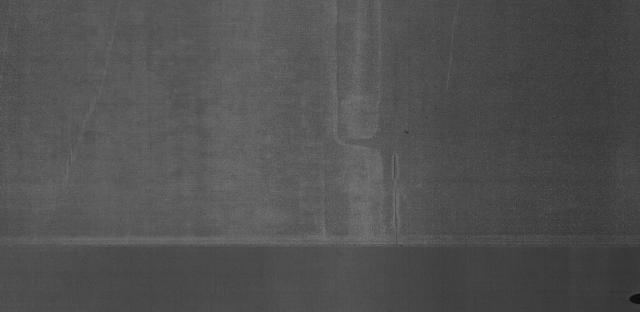punching_hole: (629, 292, 640, 306)
welding_line: (1, 235, 640, 253)
